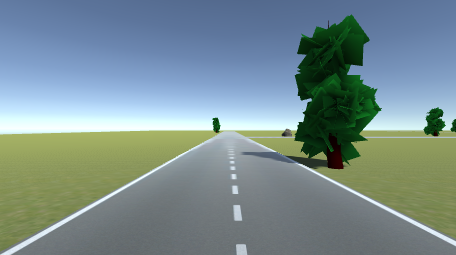rock: (281, 128, 292, 138)
tree: (294, 15, 383, 171), (422, 106, 446, 139), (212, 117, 220, 134)
